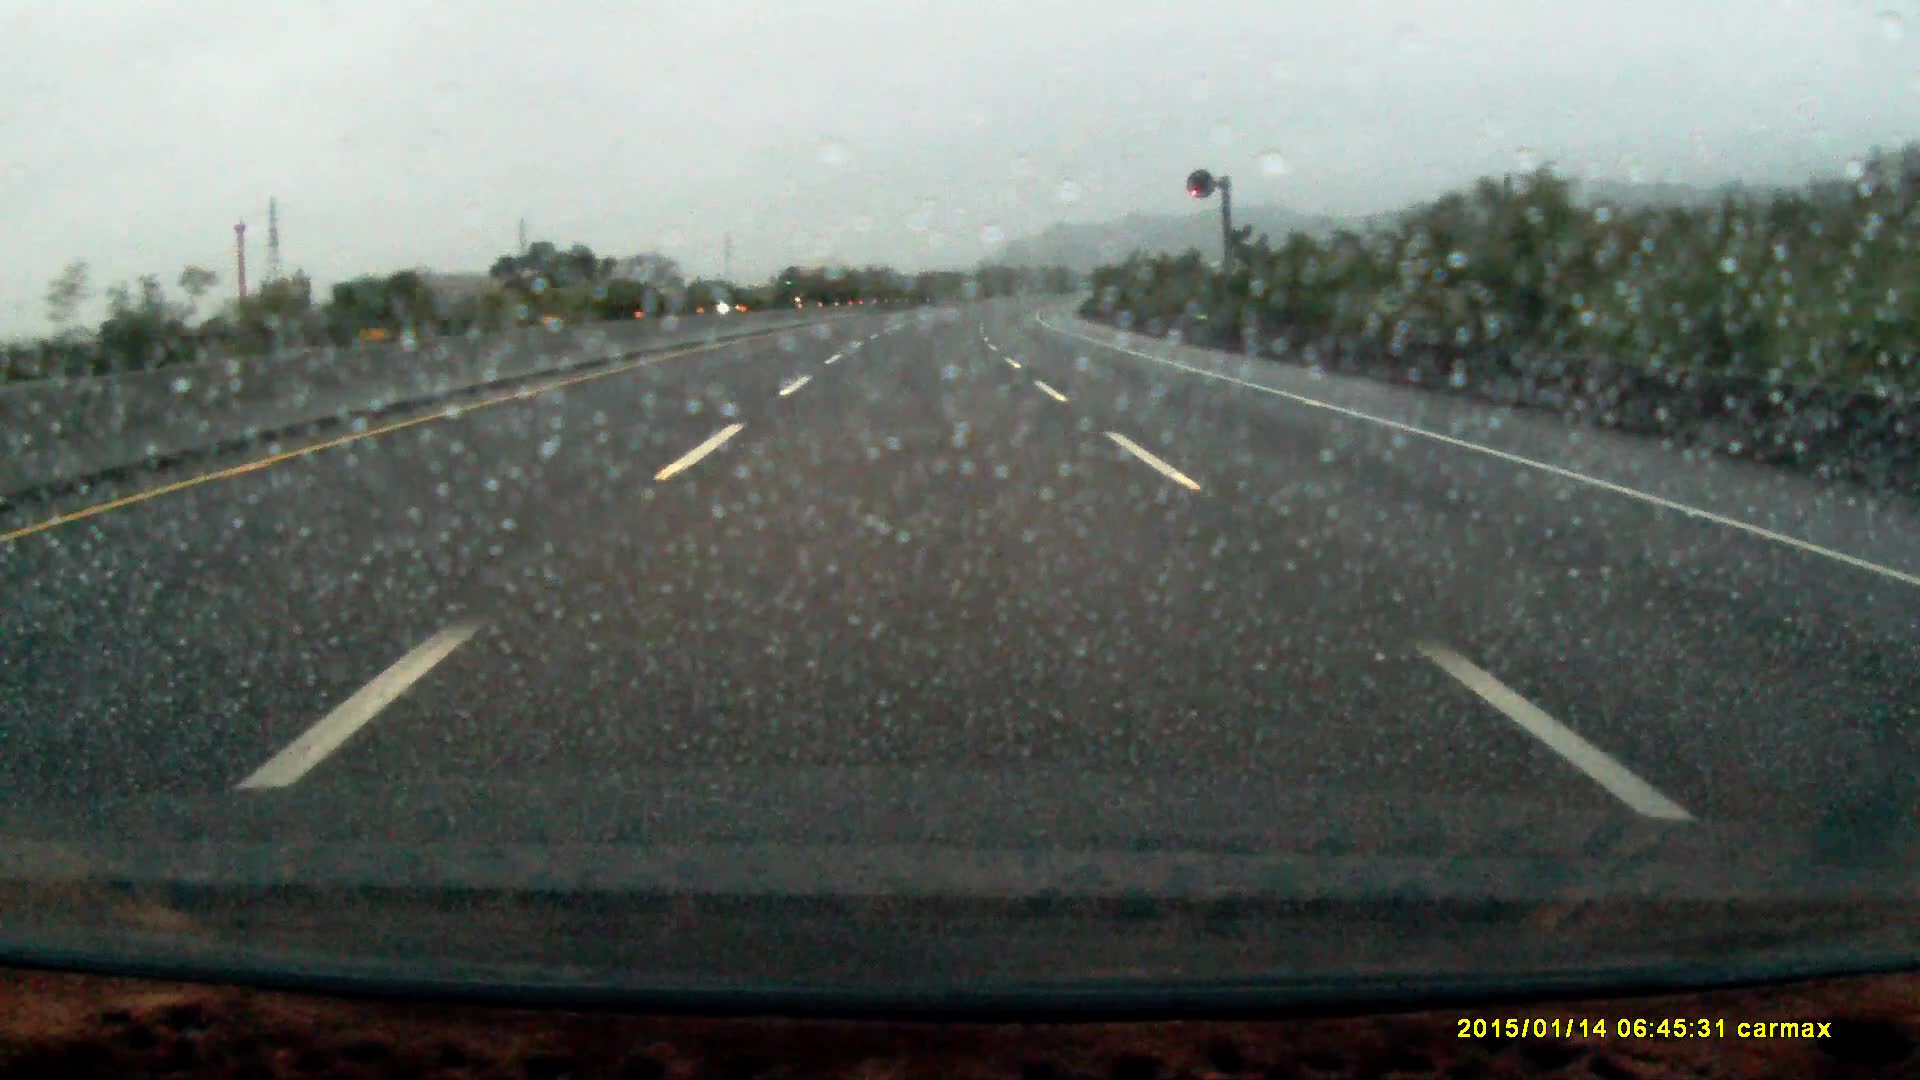vehicle: (781, 266, 822, 306)
